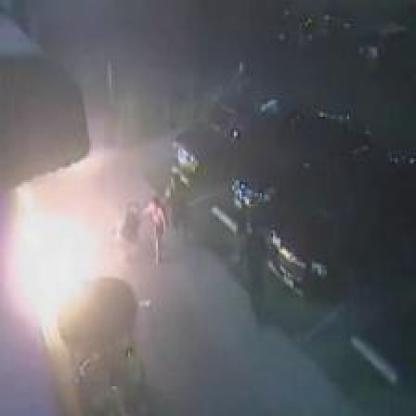fire: (6, 182, 115, 329)
